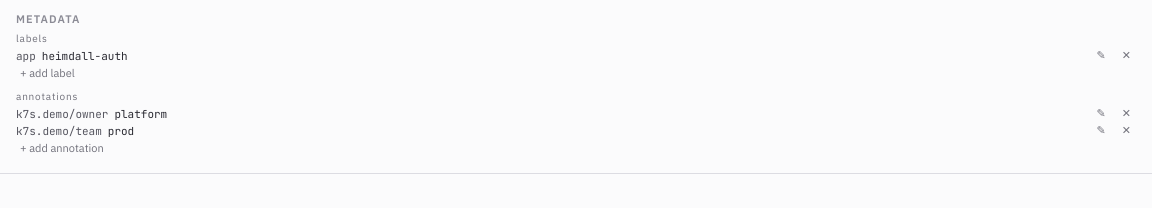
Test: MetadataEditor (B88) › adding a label renders it
Click the button "+ add label": {"x": 47, "y": 73} [16,64,79,82]
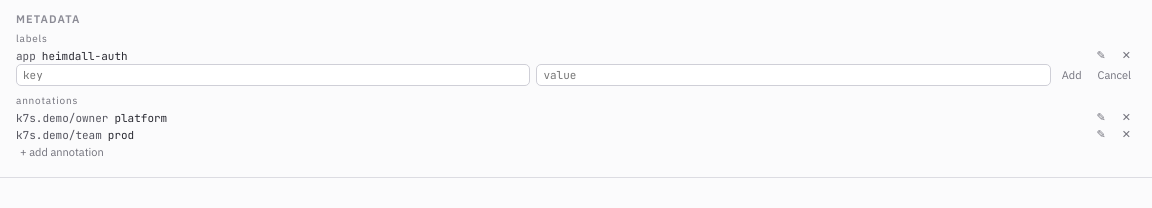
In the field named "new labels key": {"x": 273, "y": 75} [16,64,530,86], type "team"
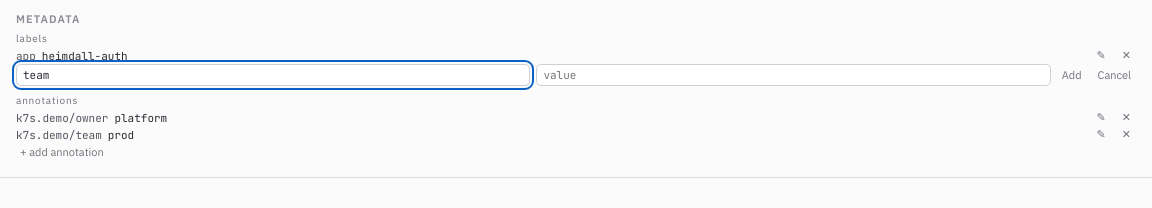
In the field named "new labels value": {"x": 794, "y": 75} [536,64,1051,86], type "billing"
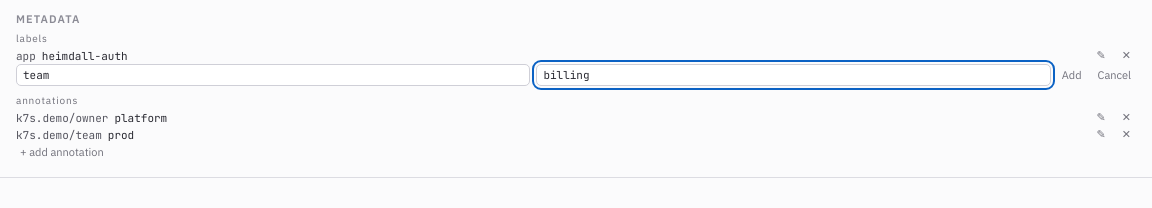
Click the button "Add": {"x": 1072, "y": 75} [1057,68,1087,82]
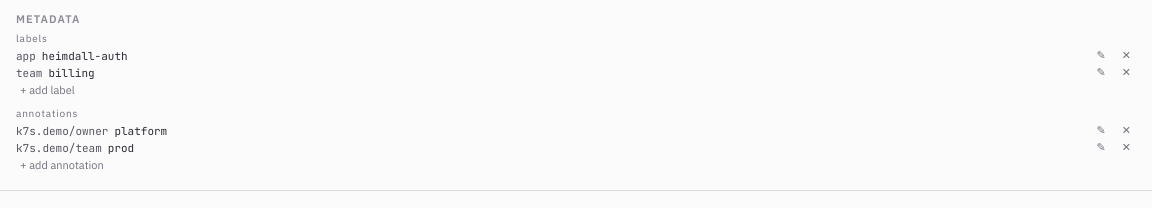
Expected: the text "team" is shown, [16,66,42,80]
Expected: the text "billing" is shown, [48,66,95,80]
